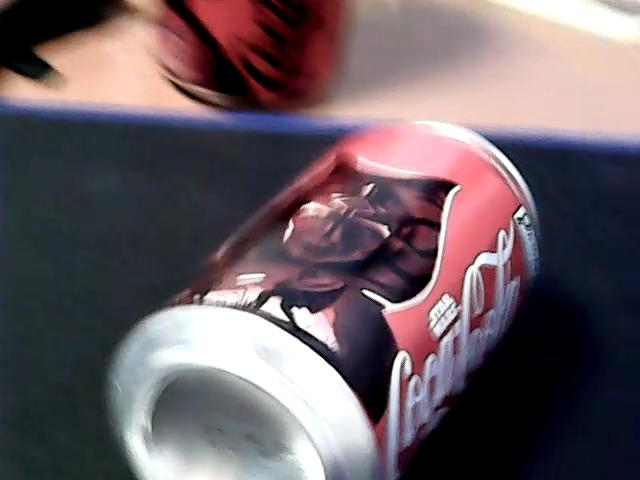coke: (106, 125, 534, 480), (155, 1, 342, 112)
